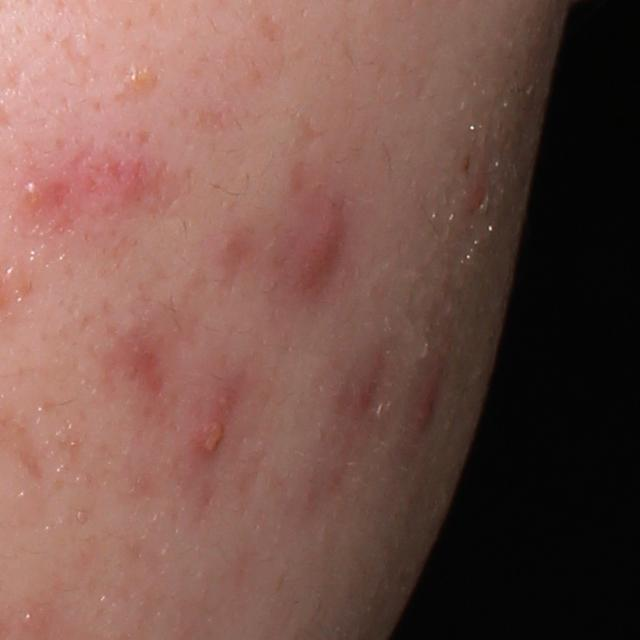atrophic_scar: (49, 29, 101, 84)
comedo: (122, 66, 165, 99)
papule: (280, 201, 362, 302), (407, 380, 441, 434)
pustule: (193, 407, 233, 460)
